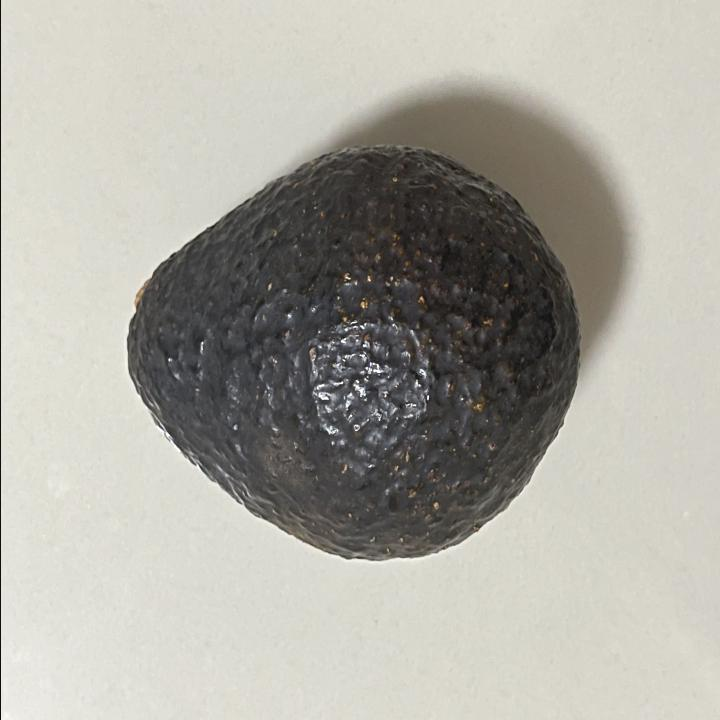Level3: (112, 133, 588, 573)
